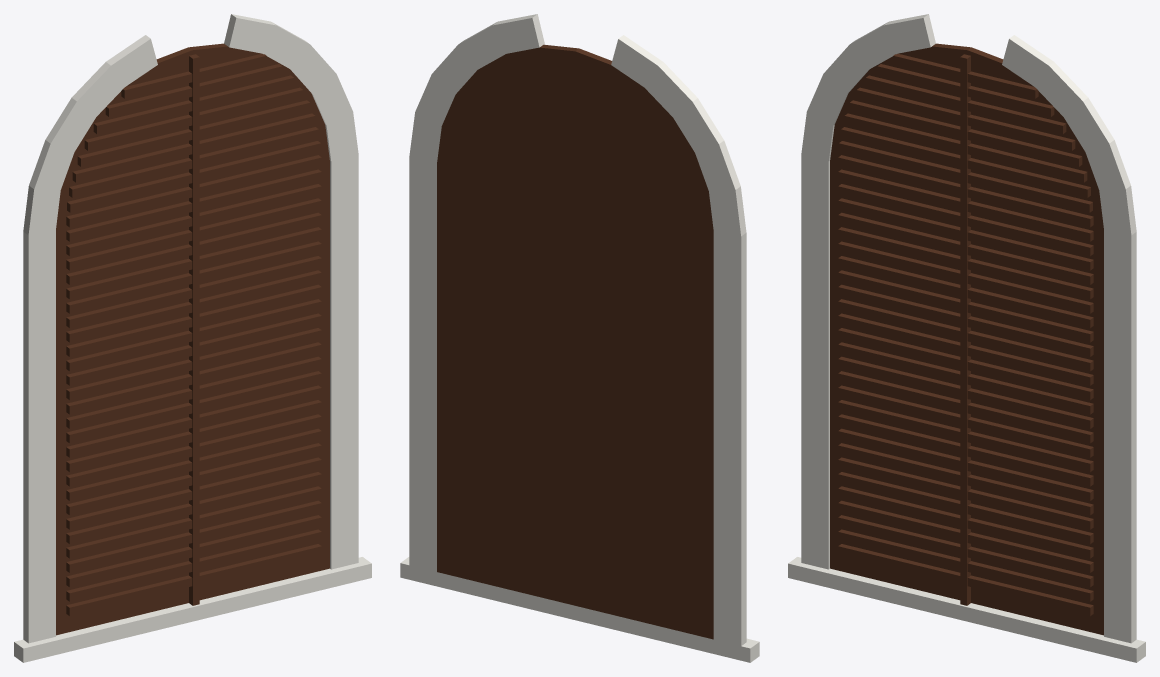
Rendered from shutter-door.glb.
The picture shows the model from 3 angles, left to right: view 1: azimuth 30°, elevation 25°; view 2: azimuth 150°, elevation 25°; view 3: azimuth 330°, elevation 25°; orthographic projection.
Parts seen in each view (by area): view 1: shutter-door-shutter, shutter-door-plaster; view 2: shutter-door-shutter, shutter-door-plaster; view 3: shutter-door-shutter, shutter-door-plaster.
Boxes of the visible parts, x1,y1,x2,y2 form: shutter-door-shutter: [56, 43, 329, 635]; shutter-door-plaster: [14, 14, 371, 662]; shutter-door-shutter: [437, 44, 713, 639]; shutter-door-plaster: [400, 14, 759, 662]; shutter-door-shutter: [830, 43, 1103, 635]; shutter-door-plaster: [788, 14, 1145, 662].
Bounding box in the file's own units: 1.52 × 2.46 × 0.07.
